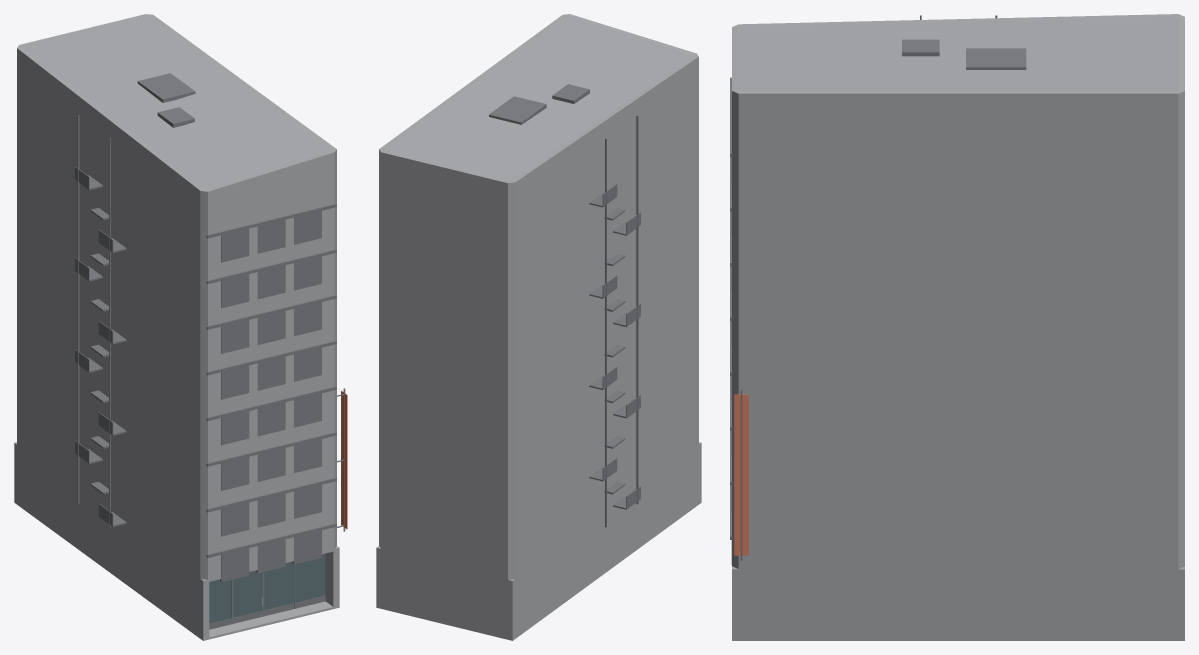
Rendered from pencil_building_c.glb.
The picture shows the model from 3 angles, left to right: view 1: azimuth 30°, elevation 25°; view 2: azimuth 150°, elevation 25°; view 3: azimuth 270°, elevation 25°; orthographic projection. The views are drawn at different scales.
Visible parts, largest first — view 1: pencil_building_c; view 2: pencil_building_c; view 3: pencil_building_c.
Boxes of the visible parts, left/top/right/bottom form: pencil_building_c: left=14, top=14, right=347, bottom=640; pencil_building_c: left=376, top=14, right=701, bottom=640; pencil_building_c: left=730, top=14, right=1184, bottom=640.
Bounding box in the file's own units: 11.81 × 32 × 24.11.
